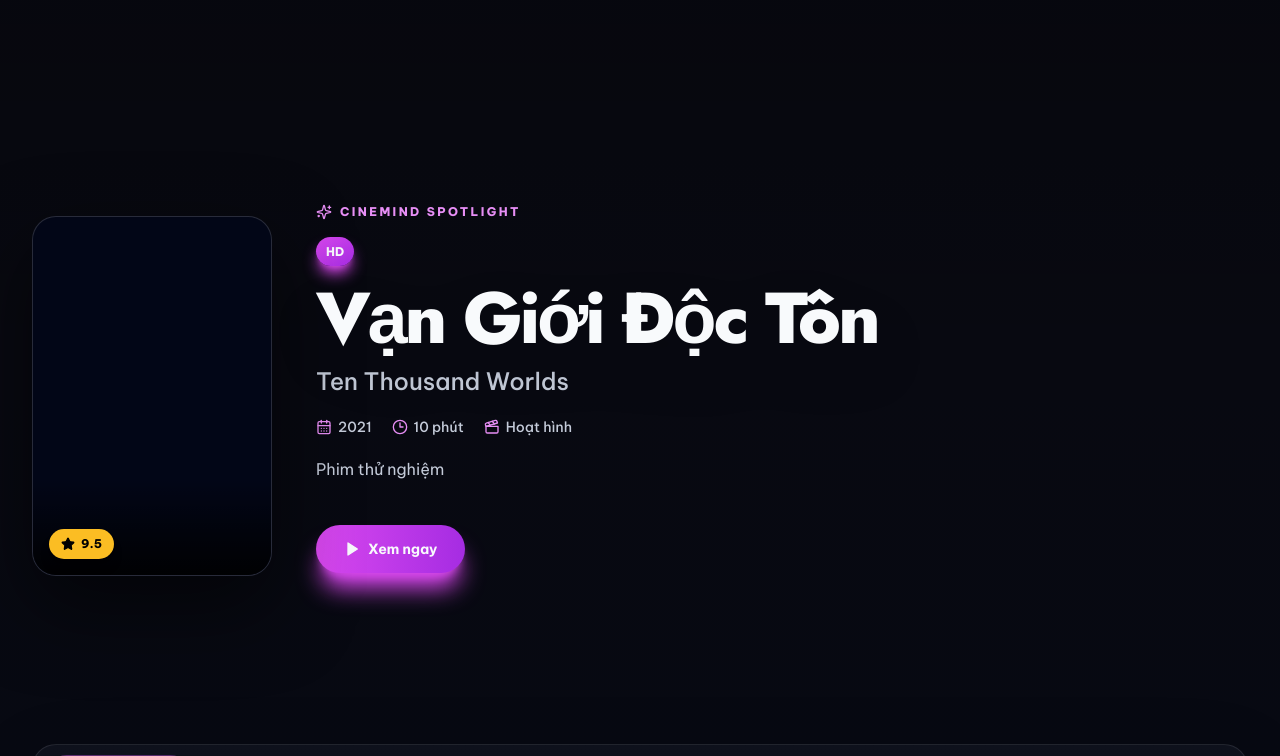
Test: movie watch-access feedback › still locks a free account when the server reports a daily quota
What coordinates should you click on to do the following:
click the button "Xem ngay"
I would click on:
 (391, 549)
Its box is [316,525,465,573].
(page scrolled)
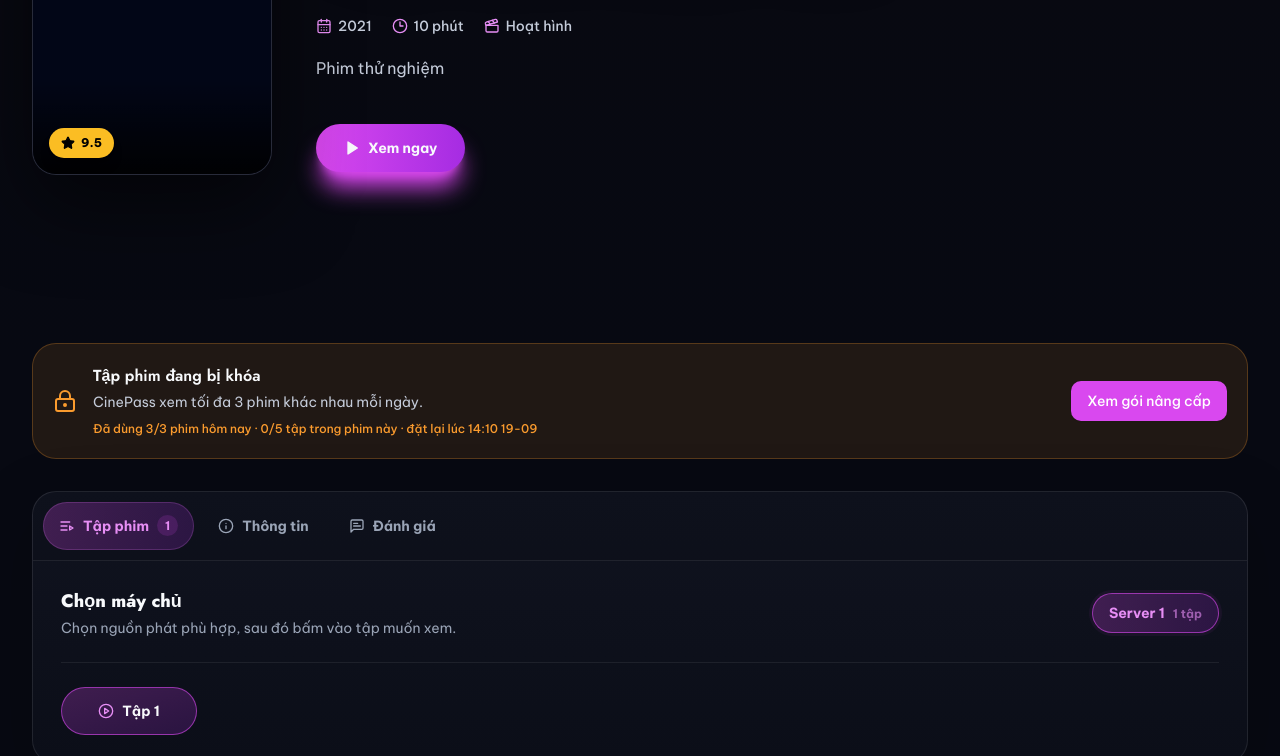
Expected: the heading "Tập phim đang bị khóa" is shown, [93,364,260,387]
